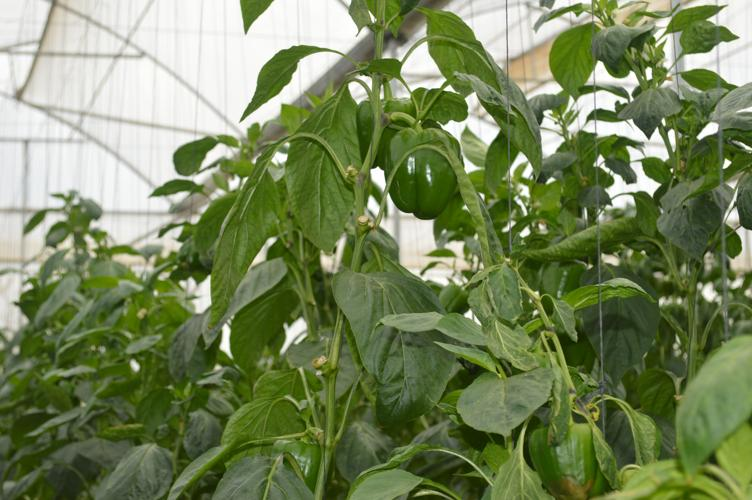BellPepper: (385, 130, 457, 226), (526, 422, 601, 497), (354, 99, 413, 166), (272, 437, 320, 485)
